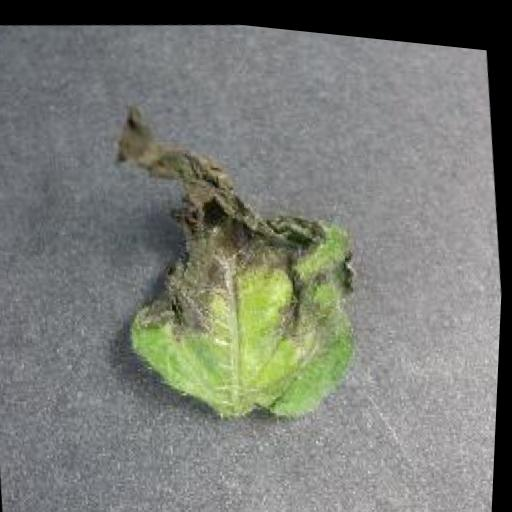Late Blight: (101, 73, 383, 438)
